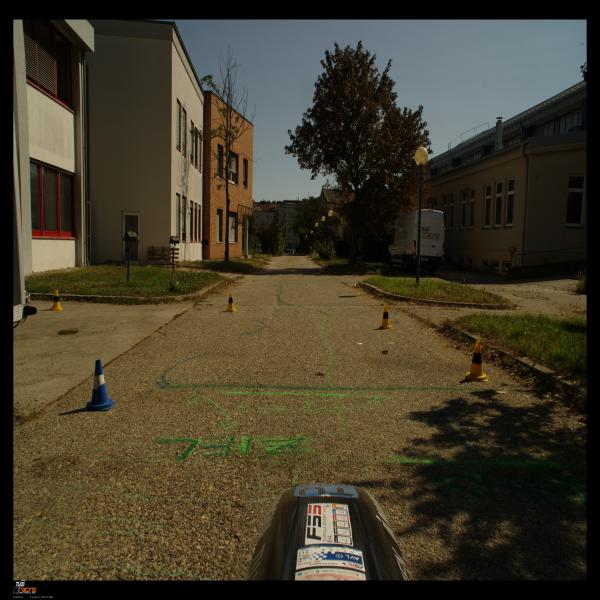blue_cone: (85, 360, 117, 411)
yellow_cone: (465, 341, 489, 382), (378, 304, 393, 330), (49, 290, 64, 311), (226, 292, 236, 312)
